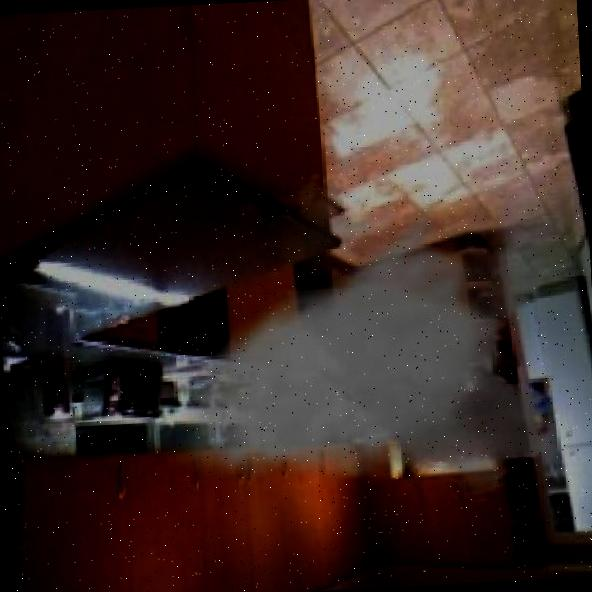smoke: (159, 248, 502, 528)
